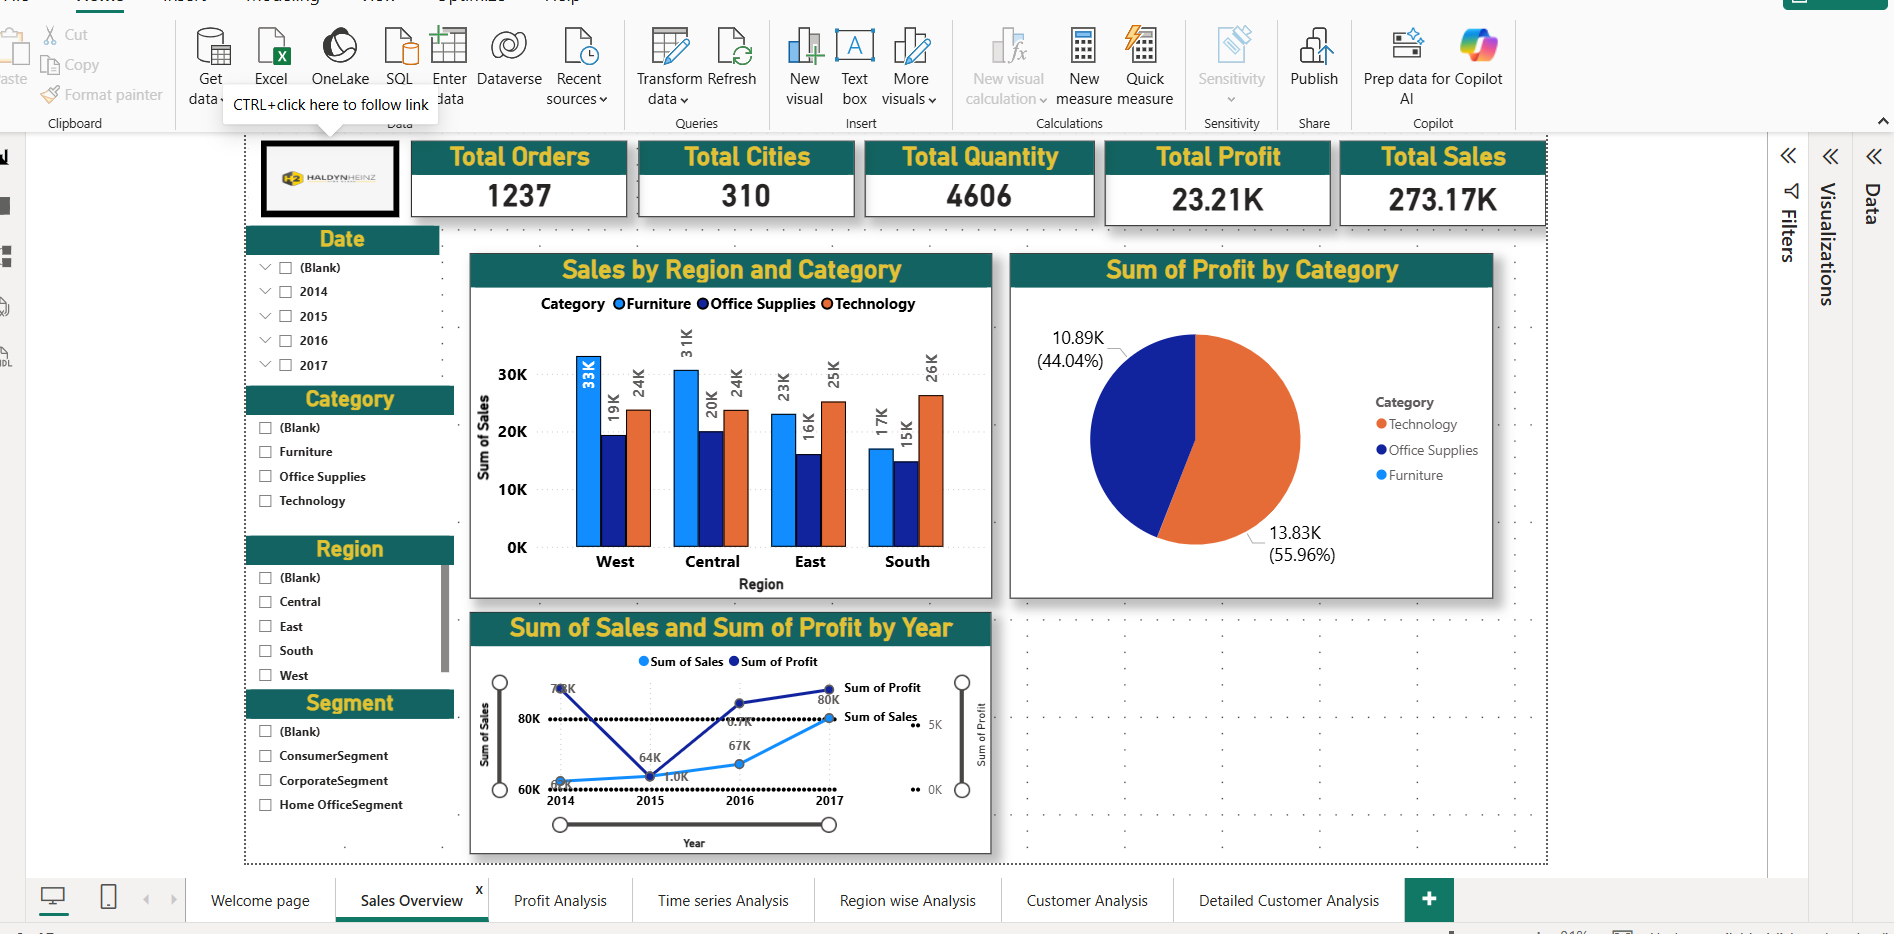

The dashboard page shown, as its layout file describes it:
{"tool":"powerbi","page":{"name":"Sales Overview","canvas":[1280,720],"ordinal":1},"visuals":[{"type":"image","box":[15,8.8,136.2,75],"z":0},{"type":"card","title":"Total Profit","fields":{"Values":["Sum(Orders.Profit)"]},"box":[845,8.8,222.5,83.8],"z":1000},{"type":"card","title":"Total Quantity","fields":{"Values":["Sum(Orders.Quantity)"]},"box":[608.8,8.8,226.2,75],"z":2000},{"type":"card","title":"Total Cities","fields":{"Values":["Count(Orders.City)"]},"box":[386.2,8.8,212.5,75],"z":3000},{"type":"card","title":"Total Orders","fields":{"Values":["Count(Orders.Order ID)"]},"box":[162.5,8.8,212.5,75],"z":4000},{"type":"slicer","title":"Date","fields":{"Values":["Orders.Order Date.Variation.Date Hierarchy.Year","Orders.Order Date.Variation.Date Hierarchy.Quarter","Orders.Order Date.Variation.Date Hierarchy.Month","Orders.Order Date.Variation.Date Hierarchy.Day"]},"box":[0,92.5,190,157.5],"z":5000},{"type":"slicer","title":"Category","fields":{"Values":["Orders.Category"]},"box":[0,250,205,147.5],"z":6000},{"type":"slicer","title":"Region","fields":{"Values":["Orders.Region"]},"box":[0,397.5,205,151.2],"z":7000},{"type":"slicer","title":"Segment","fields":{"Values":["Orders.Segment"]},"box":[0,548.8,205,151.2],"z":8000},{"type":"clusteredColumnChart","title":"Sales by Region and Category","fields":{"Series":["Orders.Category"],"Category":["Orders.Region"],"Y":["Sum(Orders.Sales)"]},"box":[220.3,119.4,514.5,339.7],"z":9000},{"type":"pieChart","fields":{"Category":["Orders.Category"],"Y":["Sum(Orders.Profit)"]},"box":[752,119.4,476.3,339.7],"z":10000},{"type":"lineChart","fields":{"Category":["Orders.Order Date.Variation.Date Hierarchy.Year","Orders.Order Date.Variation.Date Hierarchy.Quarter","Orders.Order Date.Variation.Date Hierarchy.Month","Orders.Order Date.Variation.Date Hierarchy.Day"],"Y":["Sum(Orders.Sales)"],"Y2":["Sum(Orders.Profit)"]},"box":[220.3,472.6,513.2,238.8],"z":11000},{"type":"card","title":"Total Sales","fields":{"Values":["Sum(Orders.Sales)"]},"box":[1076.9,8.6,203.1,83.7],"z":12000}]}

Visuals, with their boxes on the page's 1280x720 design canvas (x1, y1, x2, y2). These are canvas units, not pixel positions in the 1894x934 screenshot, which may show the page scaled, cropped or inside an application window:
image: l=15, t=9, r=151, b=84
"Total Profit" card: l=845, t=9, r=1068, b=93
"Total Quantity" card: l=609, t=9, r=835, b=84
"Total Cities" card: l=386, t=9, r=599, b=84
"Total Orders" card: l=162, t=9, r=375, b=84
"Date" slicer: l=0, t=92, r=190, b=250
"Category" slicer: l=0, t=250, r=205, b=398
"Region" slicer: l=0, t=398, r=205, b=549
"Segment" slicer: l=0, t=549, r=205, b=700
"Sales by Region and Category" clusteredColumnChart: l=220, t=119, r=735, b=459
pieChart - Orders.Category x Sum(Orders.Profit): l=752, t=119, r=1228, b=459
lineChart - Orders.Order Date.Variation.Date Hierarchy.Year x Orders.Order Date.Variation.Date Hierarchy.Quarter: l=220, t=473, r=734, b=711
"Total Sales" card: l=1077, t=9, r=1280, b=92
